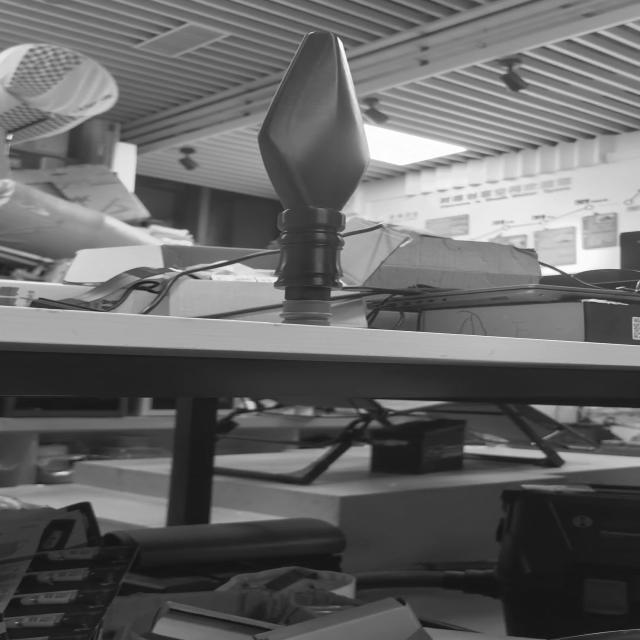base: (276, 294, 338, 334)
